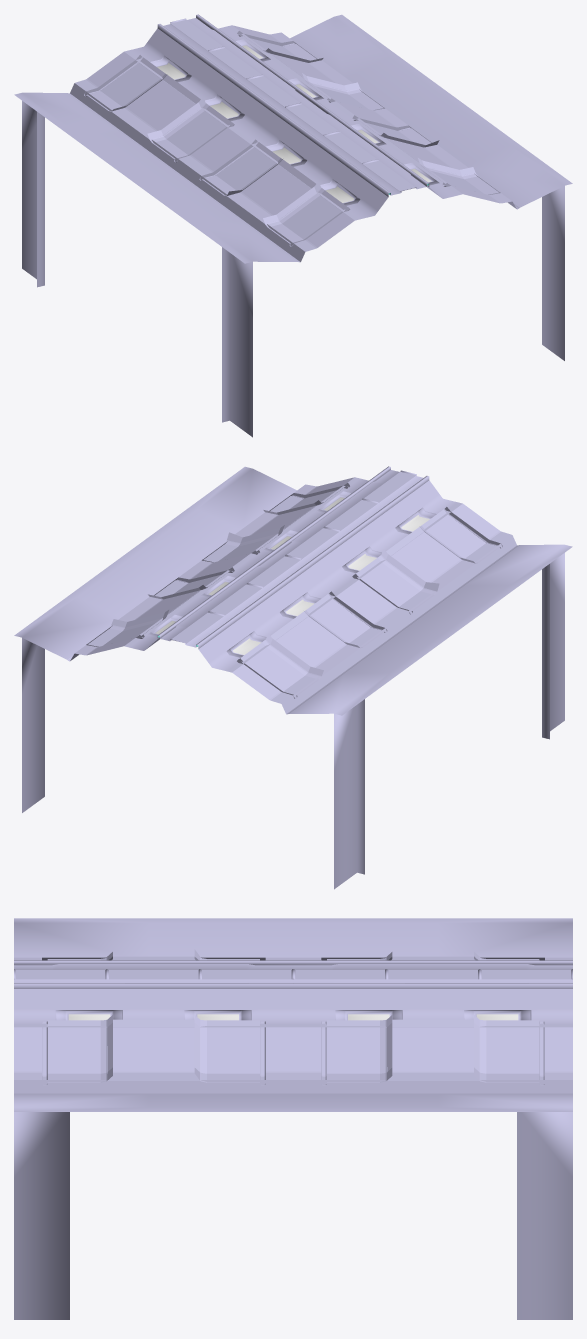
The model's file is HallDoubleRoom.fbx.
The picture shows the model from 3 angles, top to bottom: view 1: azimuth 30°, elevation 25°; view 2: azimuth 150°, elevation 25°; view 3: azimuth 270°, elevation 25°; orthographic projection. The views are drawn at different scales.
Visible parts, largest first — view 1: HallDoubleRoom; view 2: HallDoubleRoom; view 3: HallDoubleRoom.
Boxes of the visible parts, x1,y1,x2,y2 form: HallDoubleRoom: (14,14,572,437); HallDoubleRoom: (14,466,572,889); HallDoubleRoom: (14,918,572,1319).
Bounding box in the file's own units: 8.2 × 5.04 × 10.
